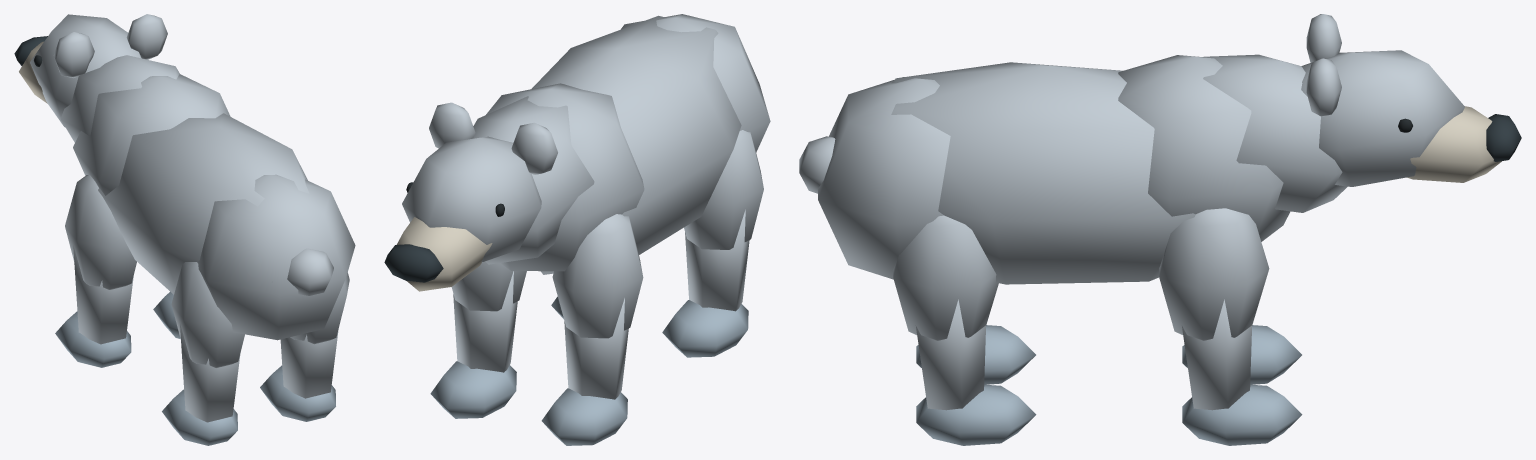
Rendered from polar-bear-low.glb.
3 views of the same model, side by side, from view 1: azimuth 30°, elevation 25°; view 2: azimuth 150°, elevation 25°; view 3: azimuth 270°, elevation 25° (orthographic). The views are drawn at different scales.
Parts seen in each view (by area): view 1: polar-bear-low; view 2: polar-bear-low; view 3: polar-bear-low.
Part boxes in pixels (left/top/right/bottom): polar-bear-low: left=14, top=14, right=355, bottom=445; polar-bear-low: left=384, top=14, right=770, bottom=445; polar-bear-low: left=799, top=14, right=1521, bottom=445.
Bounding box in the file's own units: 0.8056 × 1.4 × 2.44.
